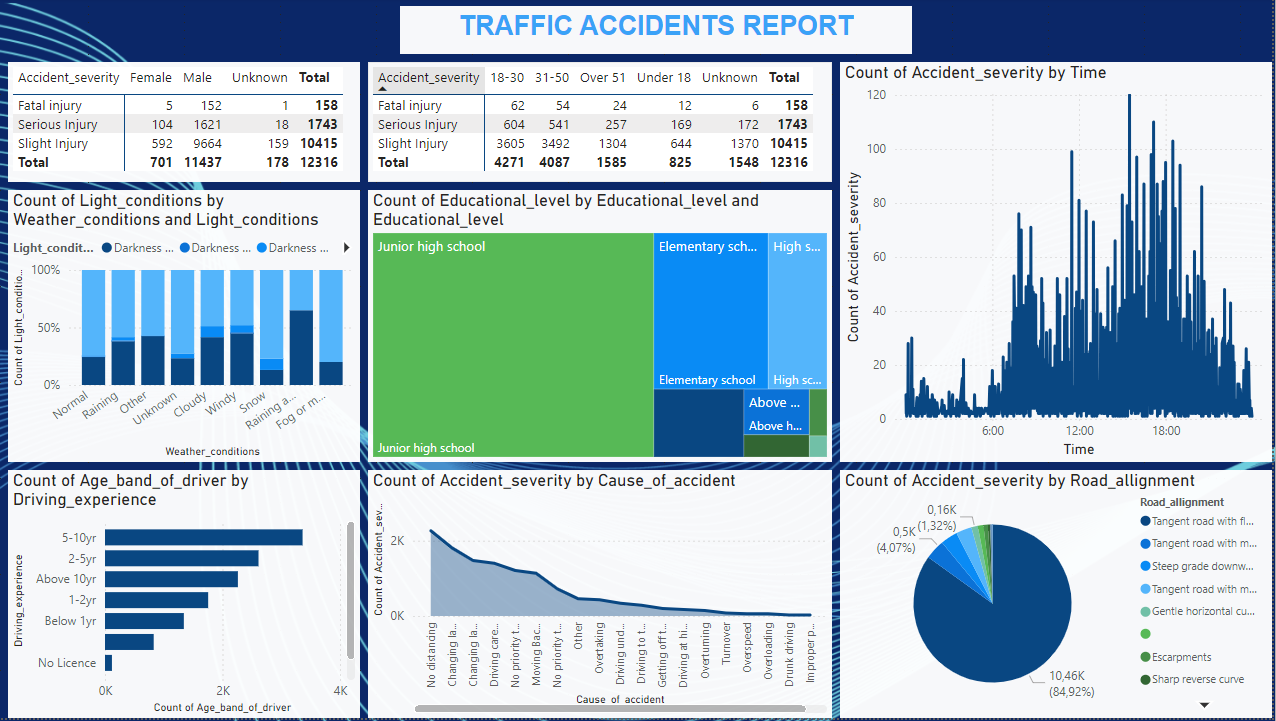

The dashboard page shown, as its layout file describes it:
{"tool":"powerbi","page":{"name":"MAIN","canvas":[1280,720],"ordinal":0},"visuals":[{"type":"textbox","box":[408,8,512,48],"z":0},{"type":"pivotTable","fields":{"Rows":["road_traffic_accidents_dataset.Accident_severity"],"Columns":["road_traffic_accidents_dataset.Sex_of_driver"],"Values":["CountNonNull(road_traffic_accidents_dataset.Accident_severity)"]},"box":[16,64,352,120],"z":1000},{"type":"pivotTable","fields":{"Rows":["road_traffic_accidents_dataset.Accident_severity"],"Columns":["road_traffic_accidents_dataset.Age_band_of_driver"],"Values":["CountNonNull(road_traffic_accidents_dataset.Accident_severity)"]},"box":[376,64,464,120],"z":2000},{"type":"treemap","fields":{"Group":["road_traffic_accidents_dataset.Educational_level"],"Details":["road_traffic_accidents_dataset.Educational_level"],"Values":["CountNonNull(road_traffic_accidents_dataset.Educational_level)"]},"box":[376,192,464,272],"z":2001},{"type":"lineChart","fields":{"Category":["road_traffic_accidents_dataset.Time"],"Y":["CountNonNull(road_traffic_accidents_dataset.Accident_severity)"]},"box":[848,64,432,400],"z":2002},{"type":"hundredPercentStackedColumnChart","fields":{"Y":["CountNonNull(road_traffic_accidents_dataset.Light_conditions)"],"Category":["road_traffic_accidents_dataset.Weather_conditions"],"Series":["road_traffic_accidents_dataset.Light_conditions"]},"box":[16,192,352,272],"z":2003},{"type":"clusteredBarChart","fields":{"Category":["road_traffic_accidents_dataset.Driving_experience"],"Y":["CountNonNull(road_traffic_accidents_dataset.Age_band_of_driver)"]},"box":[16,472,352,248],"z":2004},{"type":"stackedAreaChart","fields":{"Category":["road_traffic_accidents_dataset.Cause_of_accident"],"Y":["CountNonNull(road_traffic_accidents_dataset.Accident_severity)"]},"box":[376,472,464,248],"z":2005},{"type":"pieChart","fields":{"Category":["road_traffic_accidents_dataset.Road_allignment"],"Y":["CountNonNull(road_traffic_accidents_dataset.Accident_severity)"]},"box":[848,472,432,248],"z":2006}]}

Visuals, with their boxes in screenshot pixels (x1, y1, x2, y2), scaled from the page's 1280x720 canvas onto the 1276x721 screenshot:
textbox: 407, 8, 917, 56
pivotTable - road_traffic_accidents_dataset.Accident_severity x road_traffic_accidents_dataset.Sex_of_driver: 16, 64, 367, 184
pivotTable - road_traffic_accidents_dataset.Accident_severity x road_traffic_accidents_dataset.Age_band_of_driver: 375, 64, 837, 184
treemap - road_traffic_accidents_dataset.Educational_level x road_traffic_accidents_dataset.Educational_level: 375, 192, 837, 465
lineChart - road_traffic_accidents_dataset.Time x CountNonNull(road_traffic_accidents_dataset.Accident_severity): 845, 64, 1275, 465
hundredPercentStackedColumnChart - CountNonNull(road_traffic_accidents_dataset.Light_conditions) x road_traffic_accidents_dataset.Weather_conditions: 16, 192, 367, 465
clusteredBarChart - road_traffic_accidents_dataset.Driving_experience x CountNonNull(road_traffic_accidents_dataset.Age_band_of_driver): 16, 473, 367, 720
stackedAreaChart - road_traffic_accidents_dataset.Cause_of_accident x CountNonNull(road_traffic_accidents_dataset.Accident_severity): 375, 473, 837, 720
pieChart - road_traffic_accidents_dataset.Road_allignment x CountNonNull(road_traffic_accidents_dataset.Accident_severity): 845, 473, 1275, 720
